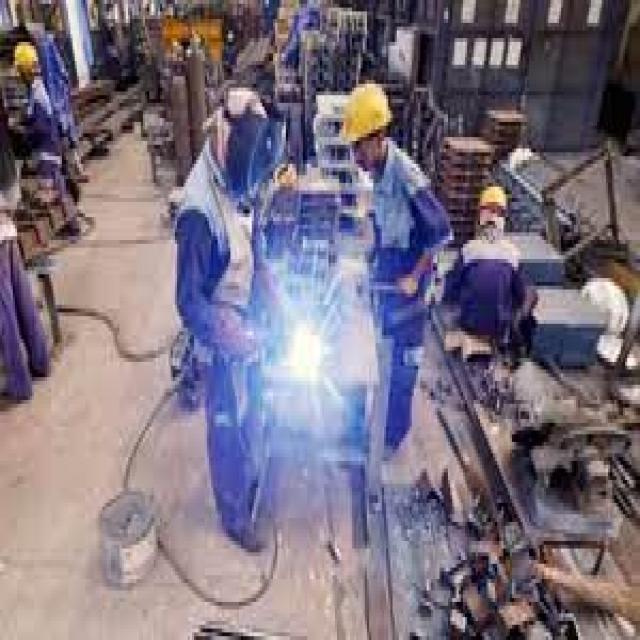Reflective-Jacket: (365, 141, 461, 324)
Safety-Helmet: (335, 69, 399, 160), (469, 171, 516, 225), (10, 38, 40, 84)
